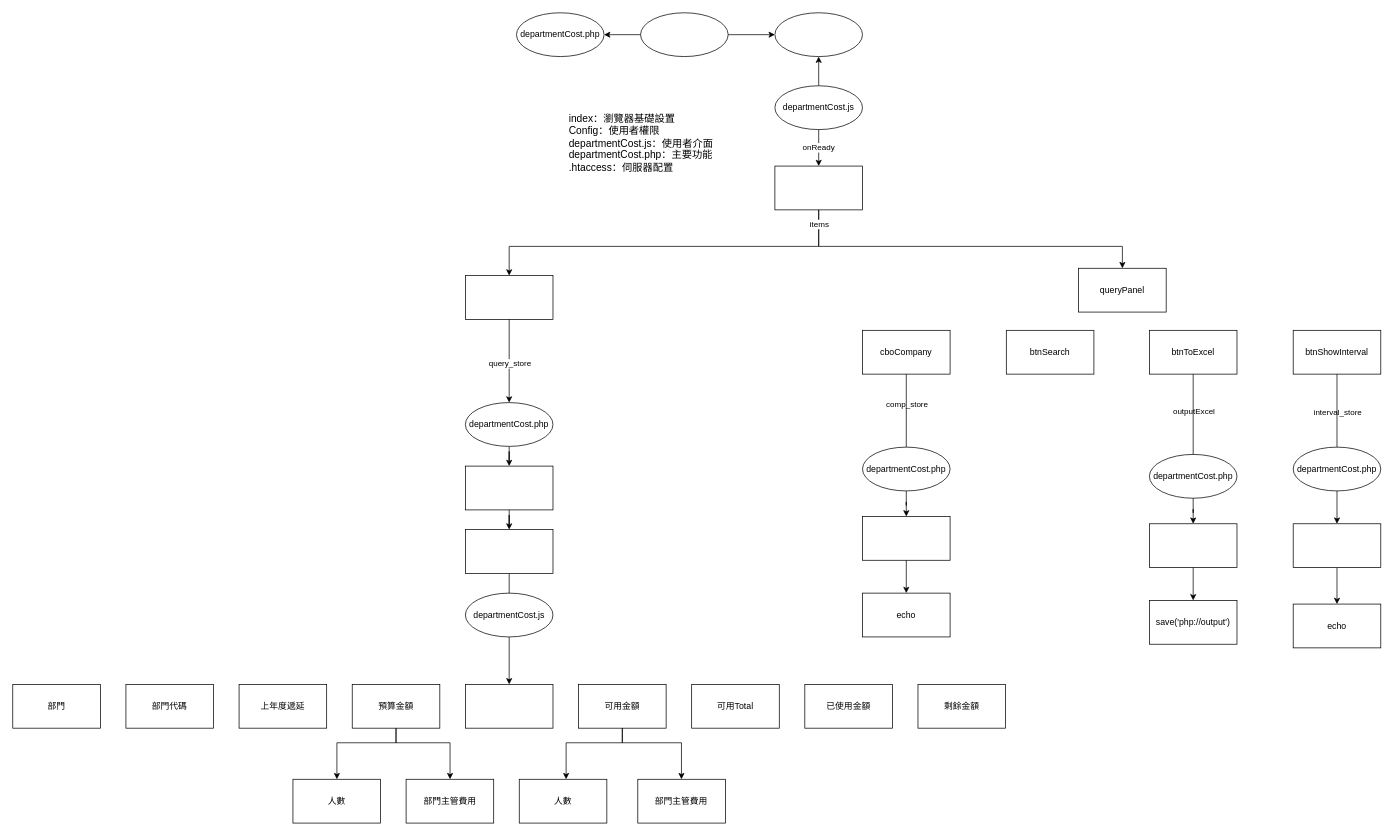
Image size: 1394x836. Some labels were removed from this diagram. The box of each missing label's shape, as (x1, y1, x2, y2) in pixels:
api_getComp: (862, 516, 950, 560)
api_getData: (465, 465, 553, 510)
api_getInterval: (1292, 523, 1381, 568)
api_outputExcel: (1149, 523, 1237, 568)
Config.php: (640, 12, 728, 57)
getSearchData: (465, 529, 553, 573)
gridPanel: (465, 275, 553, 319)
index.php: (774, 12, 862, 57)
statusForm: (774, 165, 862, 210)
預算Total: (465, 684, 553, 728)
